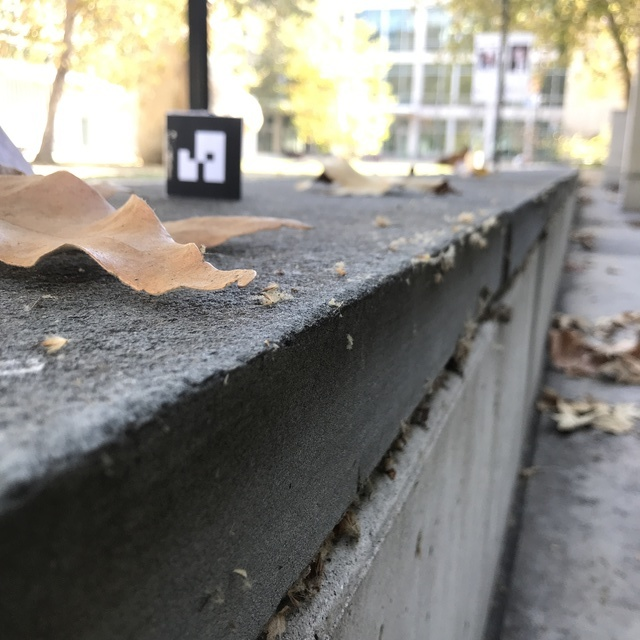ARTag: (165, 113, 243, 202)
